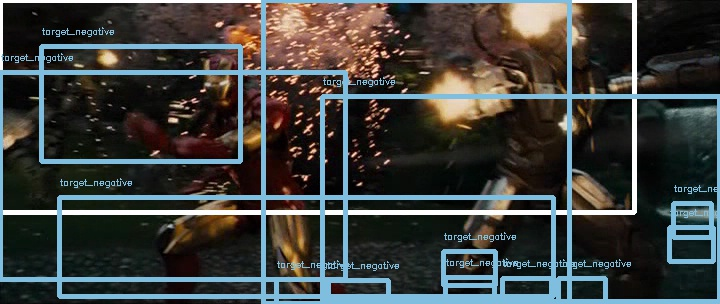person: (199, 52, 242, 104), (198, 52, 241, 104), (200, 52, 243, 104), (199, 51, 242, 103), (199, 53, 242, 105)
target_negative: (174, 65, 432, 217), (546, 178, 638, 300), (460, 80, 532, 189), (682, 197, 706, 265), (712, 135, 719, 265), (271, 220, 314, 225)
